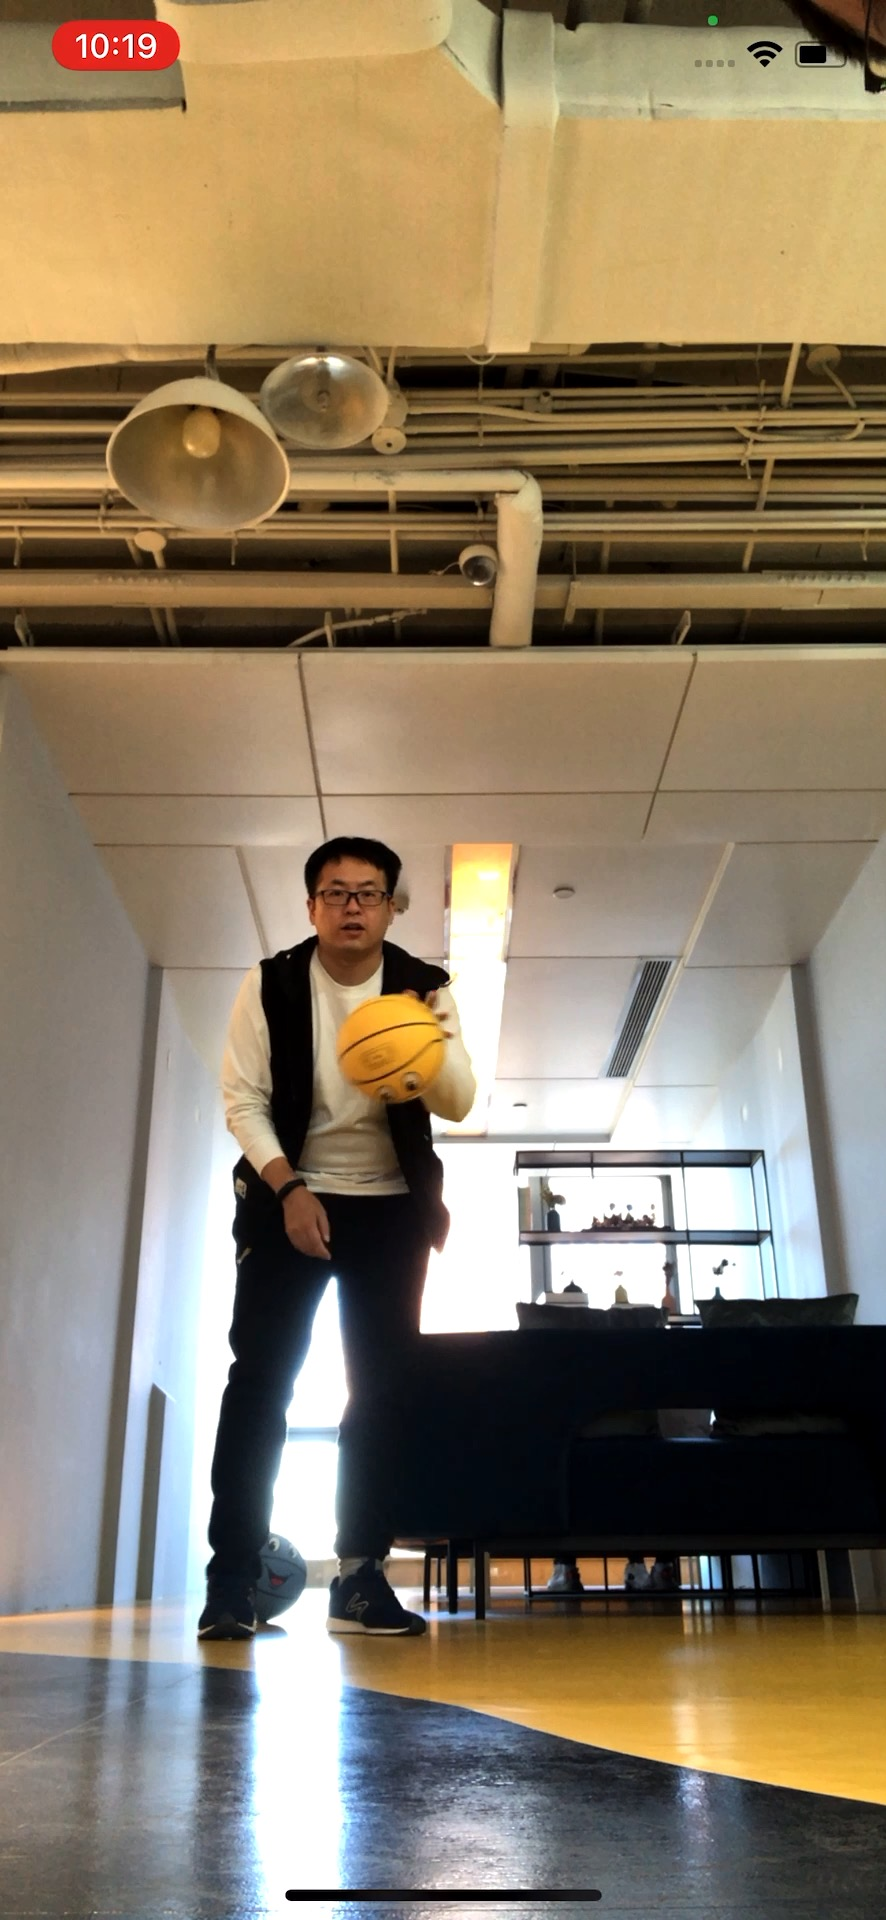ball: (337, 996, 445, 1108)
